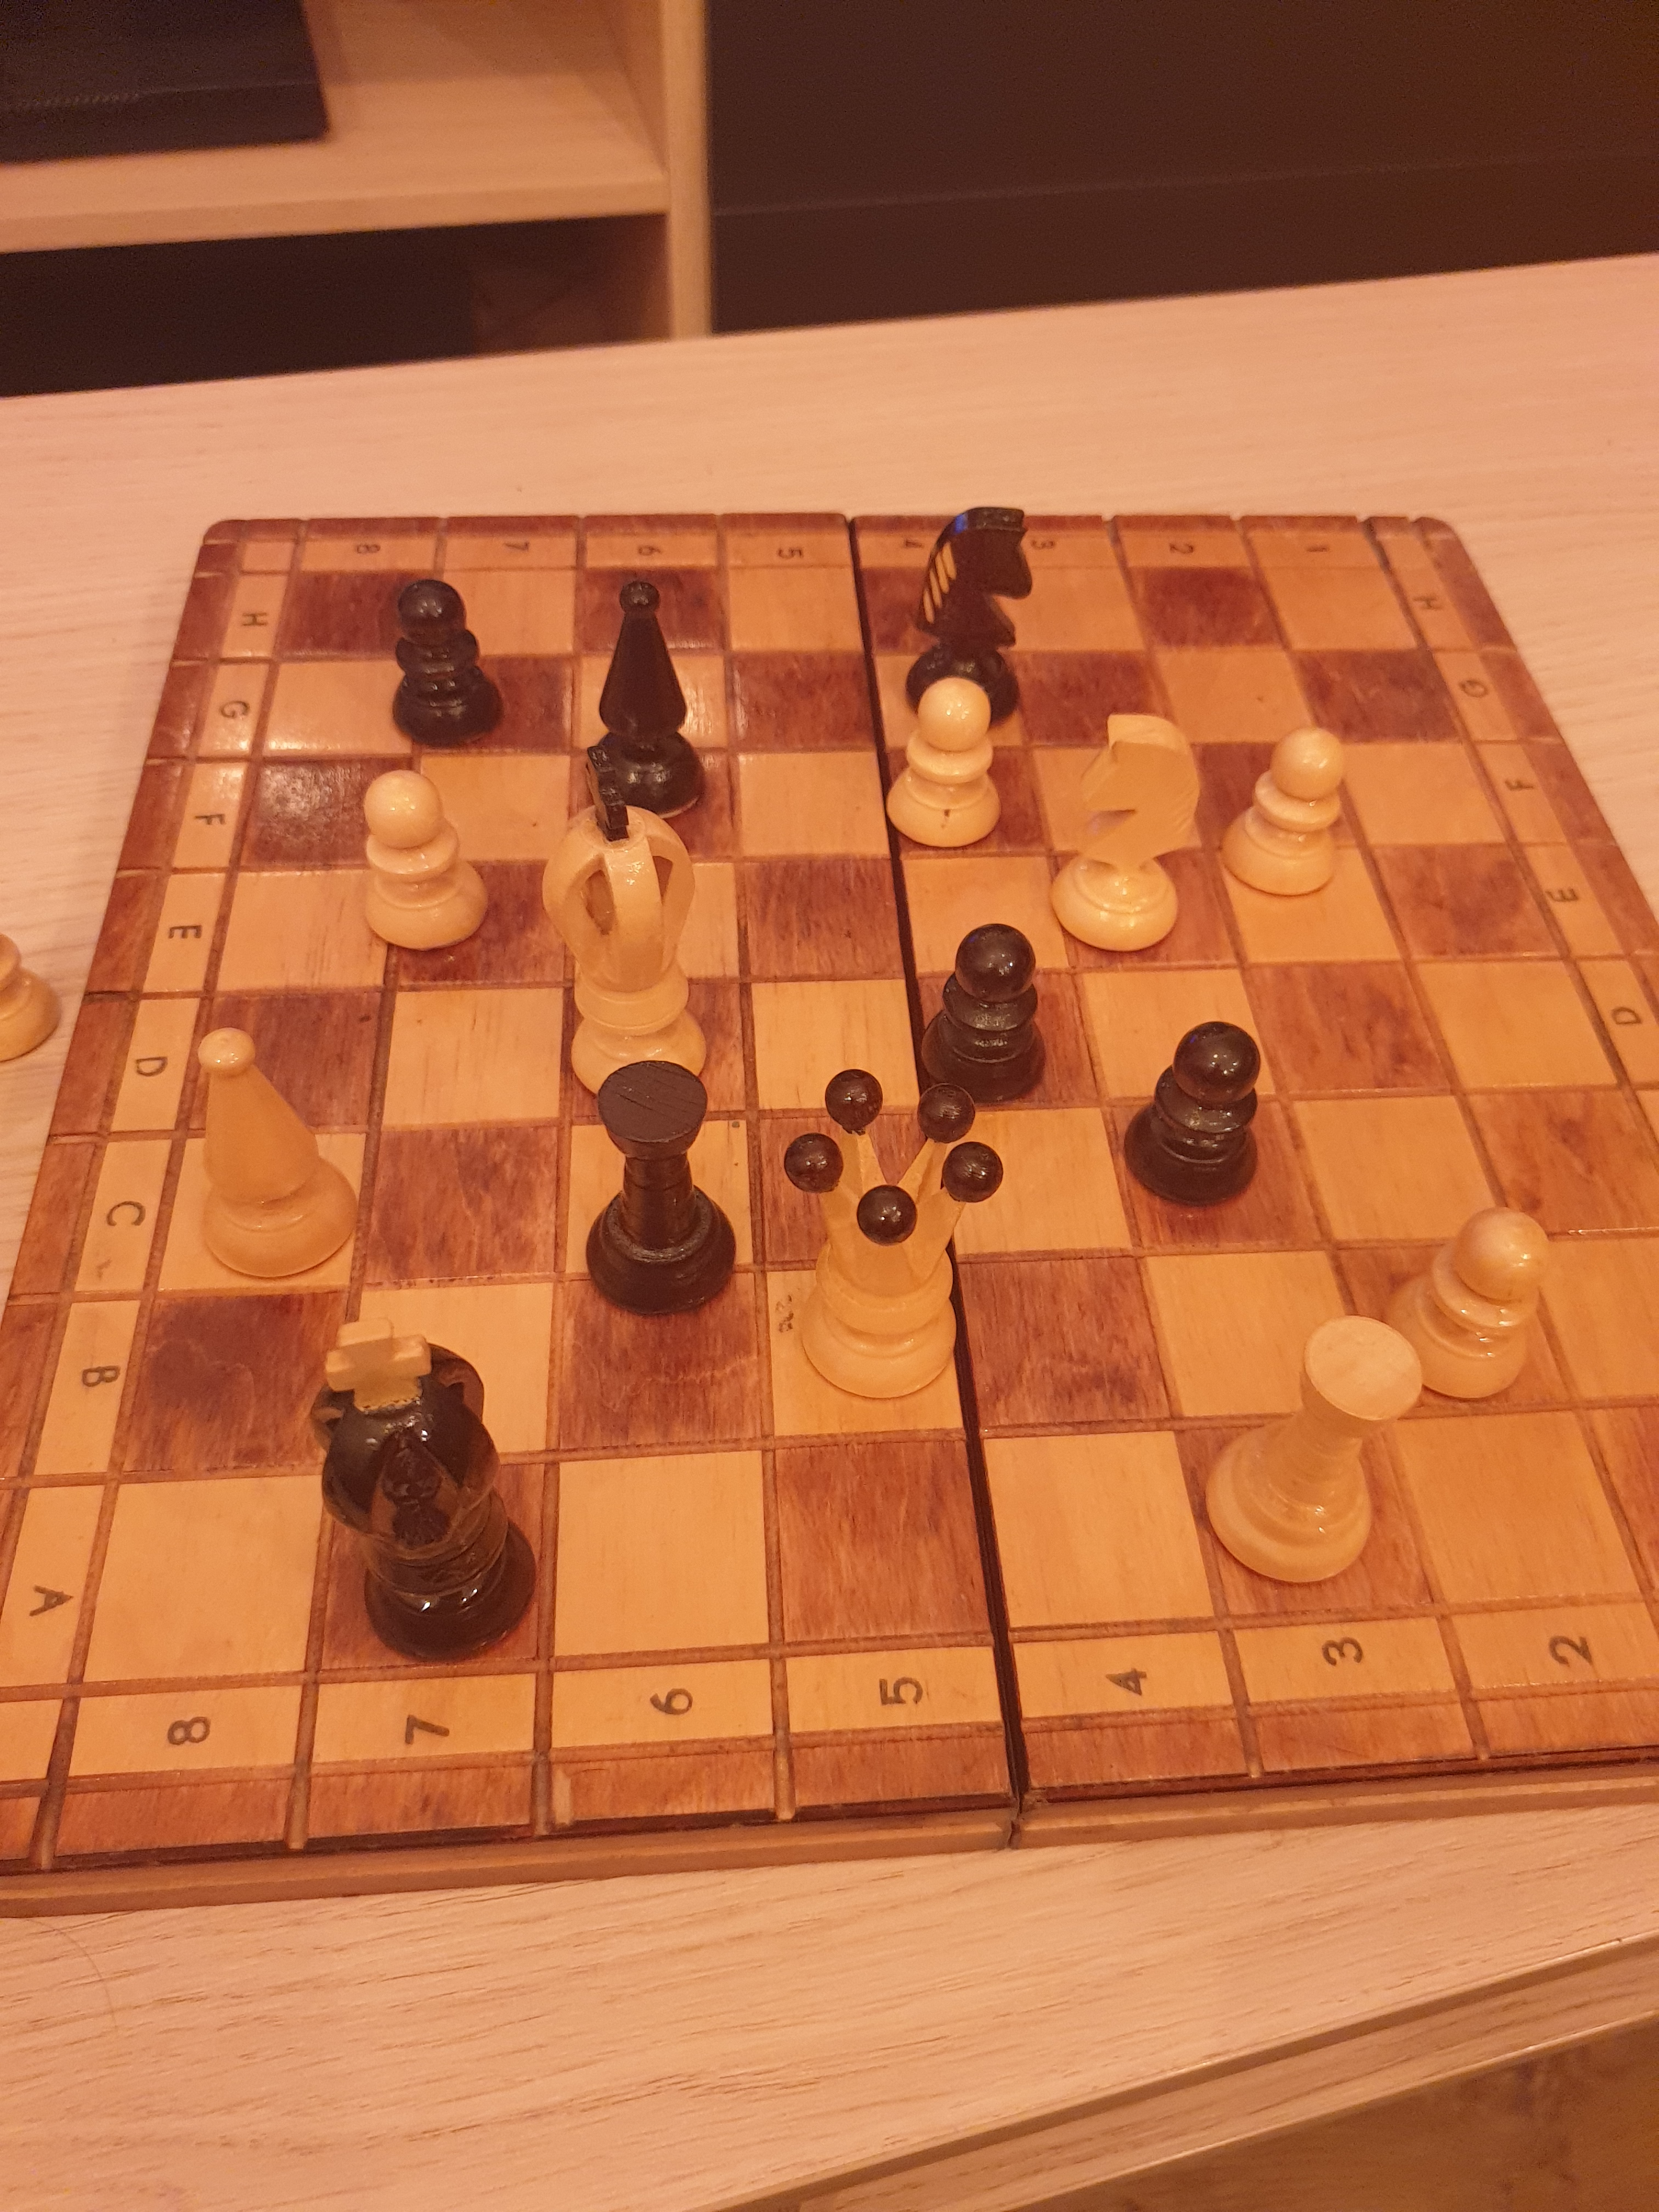bbishop: (580, 566, 718, 833)
bking: (295, 1303, 558, 1681)
bknight: (897, 498, 1042, 740)
bpawn: (1105, 1008, 1279, 1224), (910, 916, 1061, 1122), (378, 570, 512, 752)
brook: (577, 1049, 751, 1327)
wbishop: (173, 1012, 373, 1280)
wking: (537, 744, 739, 1106)
wknight: (1040, 697, 1216, 967)
wpawn: (1364, 1193, 1558, 1420), (350, 765, 507, 961), (871, 662, 1018, 871), (1209, 721, 1359, 909)
wqueen: (769, 1061, 1026, 1430)
wrook: (1190, 1301, 1431, 1606)
